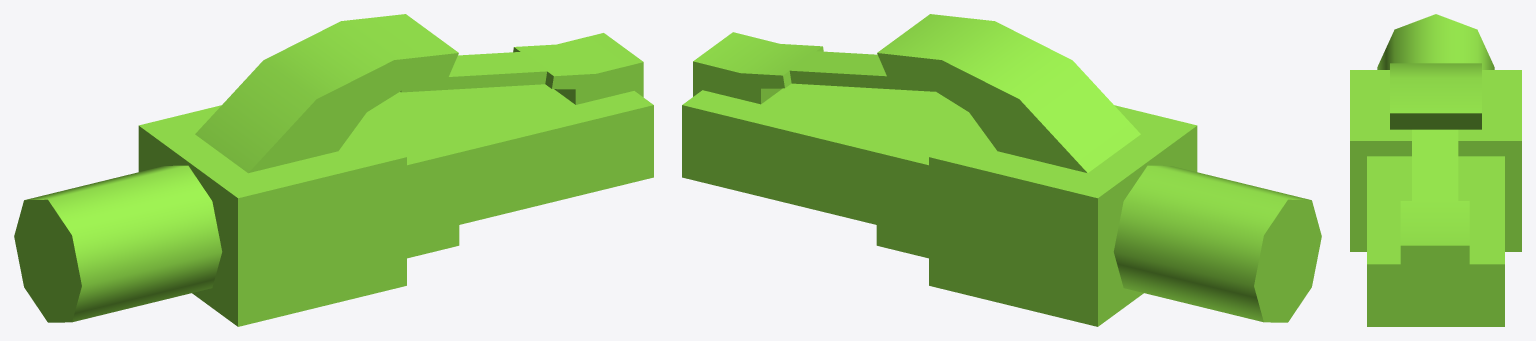
Rendered from SM_LAN.fbx.
The picture shows the model from 3 angles, left to right: view 1: azimuth 30°, elevation 25°; view 2: azimuth 150°, elevation 25°; view 3: azimuth 270°, elevation 25°; orthographic projection. The views are drawn at different scales.
Parts seen in each view (by area): view 1: SM_LAN; view 2: SM_LAN; view 3: SM_LAN.
Part boxes in pixels (x1,y1,x2,y2): SM_LAN: (14,14,653,326); SM_LAN: (682,14,1321,326); SM_LAN: (1350,14,1521,326).
Size of the model in its own units: 2.49 by 0.8536 by 0.747.
